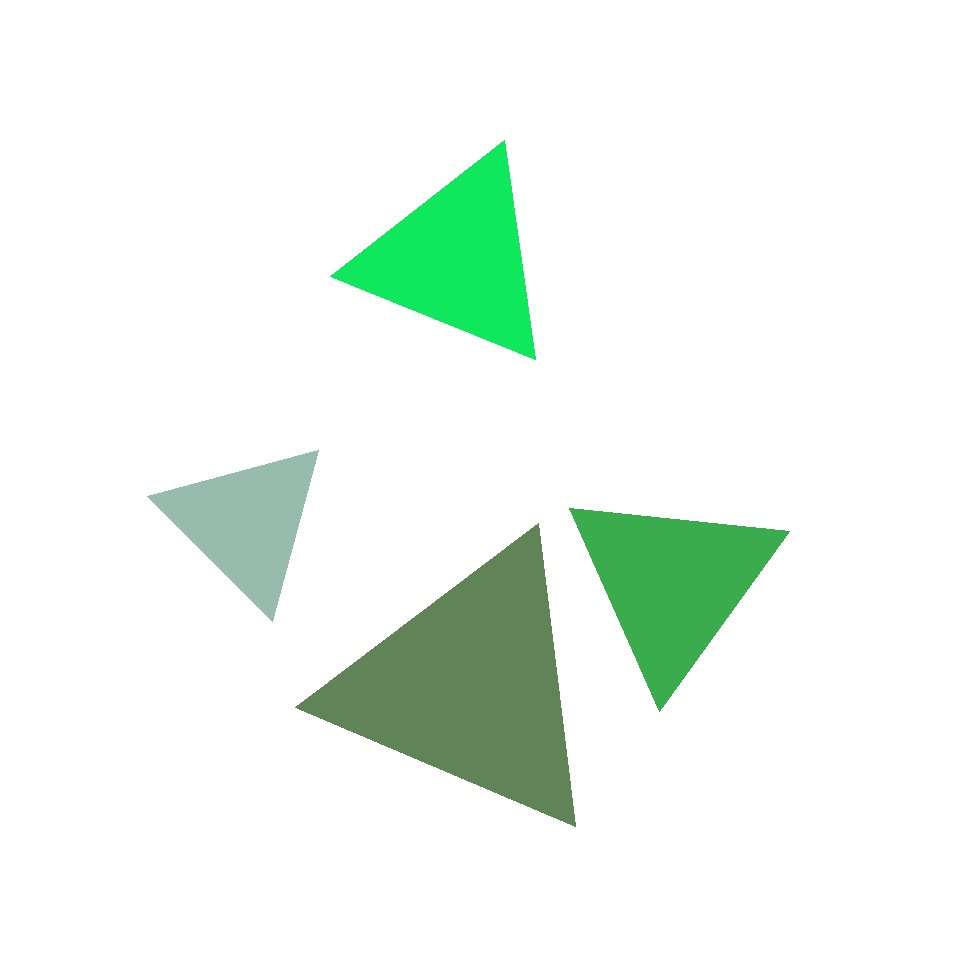circle: (330, 534, 610, 838), (354, 149, 560, 368), (563, 482, 783, 685), (160, 438, 331, 608)
square: (300, 394, 624, 716)
triangle: (444, 150, 808, 512)
